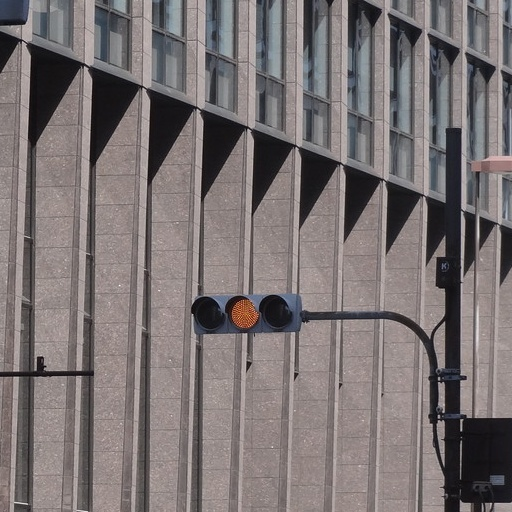Traffic_Signal_Yellow: (185, 278, 305, 336)
